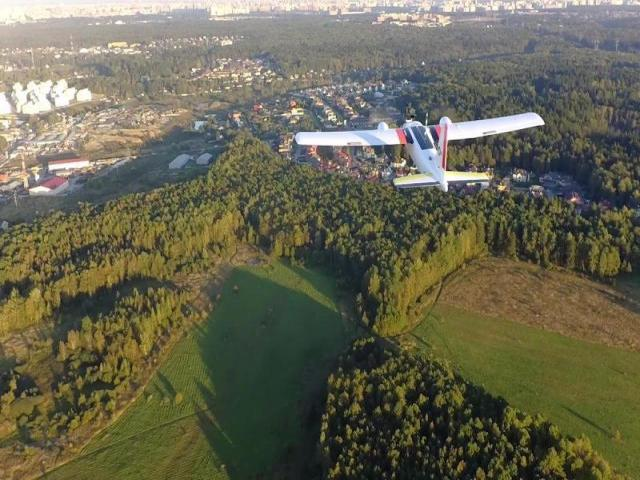hedef: (291, 106, 549, 196)
